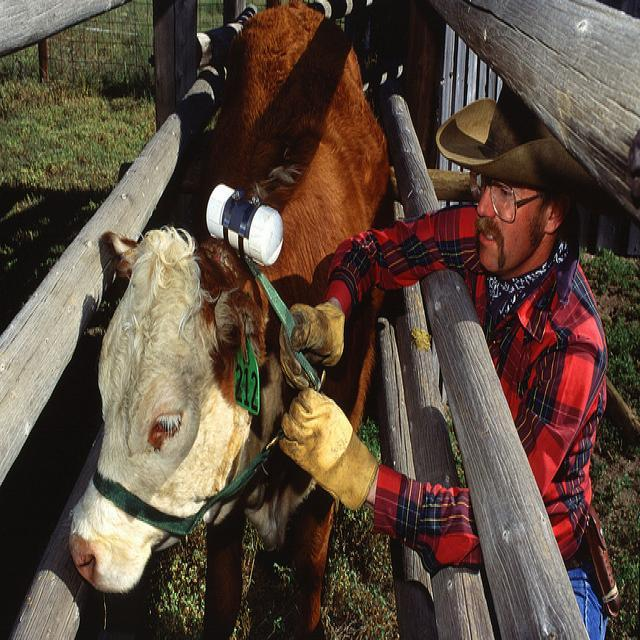cow: (63, 2, 389, 628)
